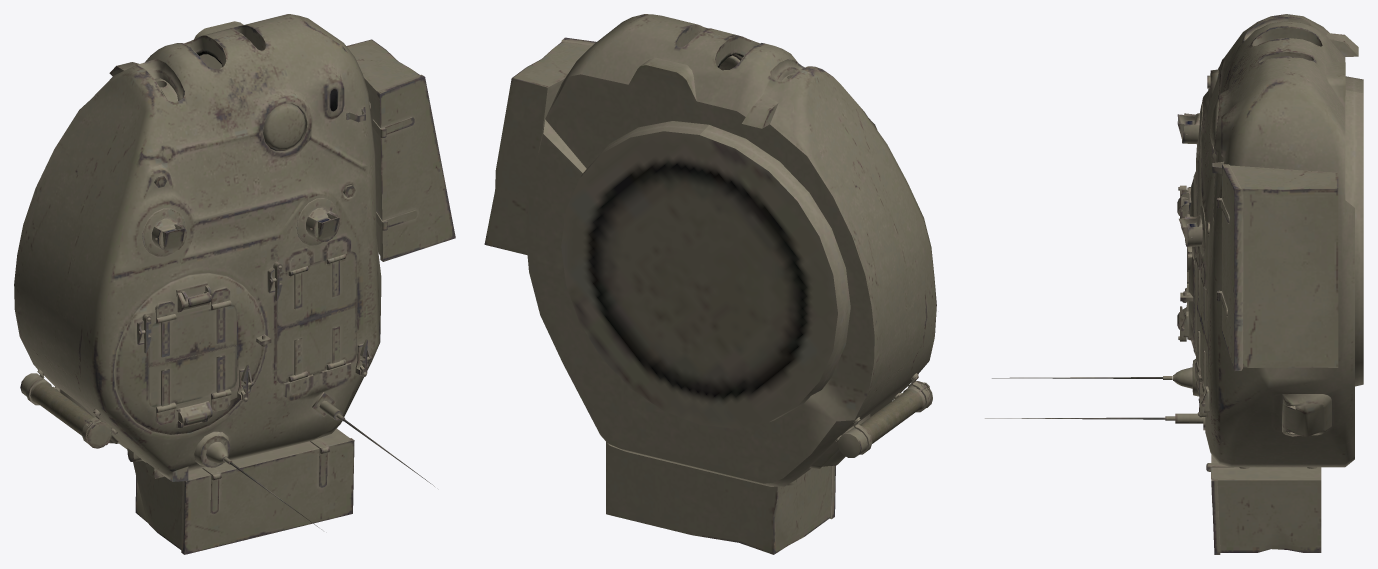
File: Turret_01.glb
3 views of the same model, side by side, from view 1: azimuth 30°, elevation 25°; view 2: azimuth 150°, elevation 25°; view 3: azimuth 270°, elevation 25° (orthographic). The views are drawn at different scales.
Parts seen in each view (by area): view 1: set_0_group_0; view 2: set_0_group_0; view 3: set_0_group_0.
Part boxes in pixels (x1=…): set_0_group_0: x1=14, y1=14, x2=455, y2=554; set_0_group_0: x1=484, y1=14, x2=936, y2=554; set_0_group_0: x1=985, y1=14, x2=1363, y2=554.
Size of the model in its own units: 2.17 by 2.55 by 1.93.
Materials: 1 (1 with a texture image).
